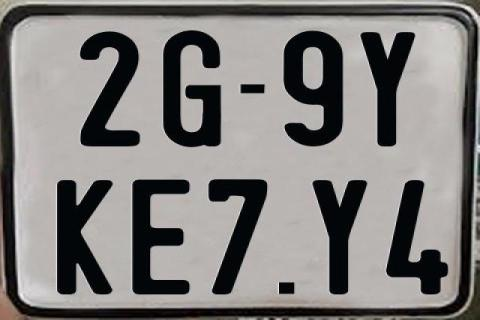0: (384, 179, 452, 297), (80, 30, 142, 150), (280, 30, 342, 150), (208, 179, 269, 295)
E: (131, 177, 189, 293)
G: (160, 29, 221, 147)
K: (56, 178, 117, 294)
Y: (309, 178, 370, 298), (357, 31, 416, 147)
